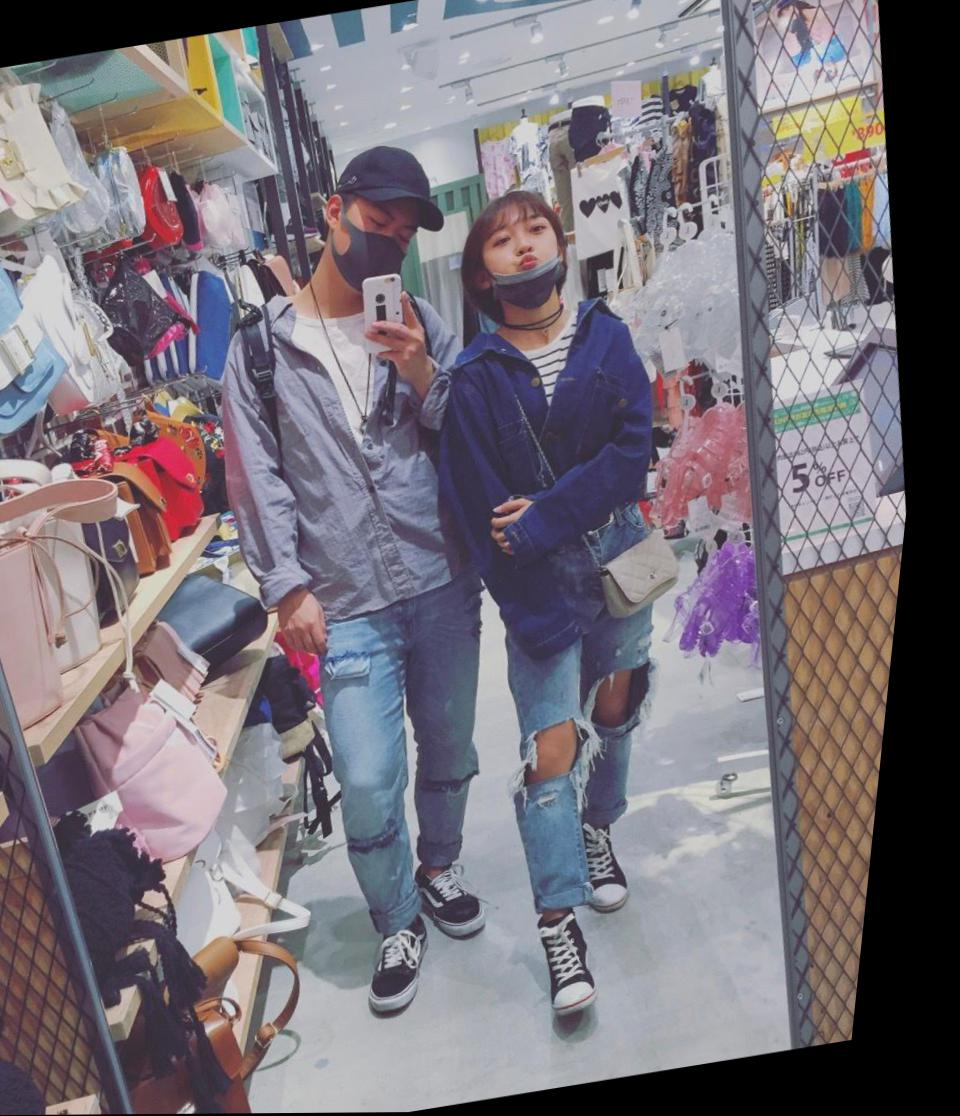OK: (333, 202, 426, 296)
WRONG: (476, 215, 576, 307)
